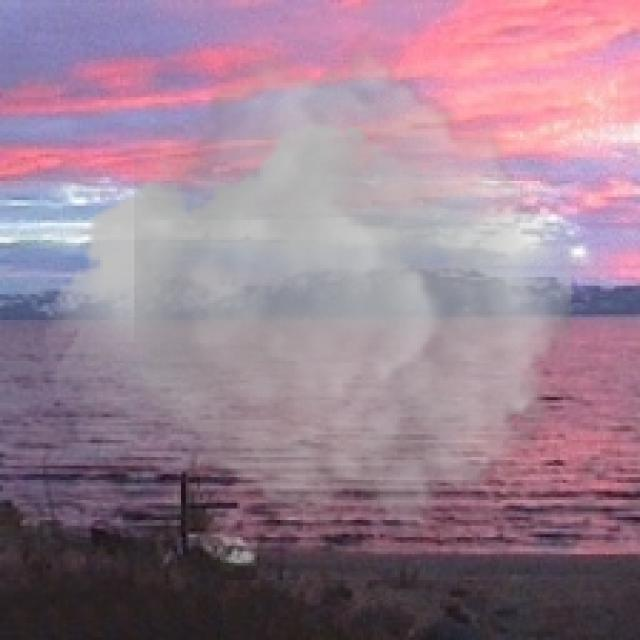smoke: (46, 28, 571, 546)
